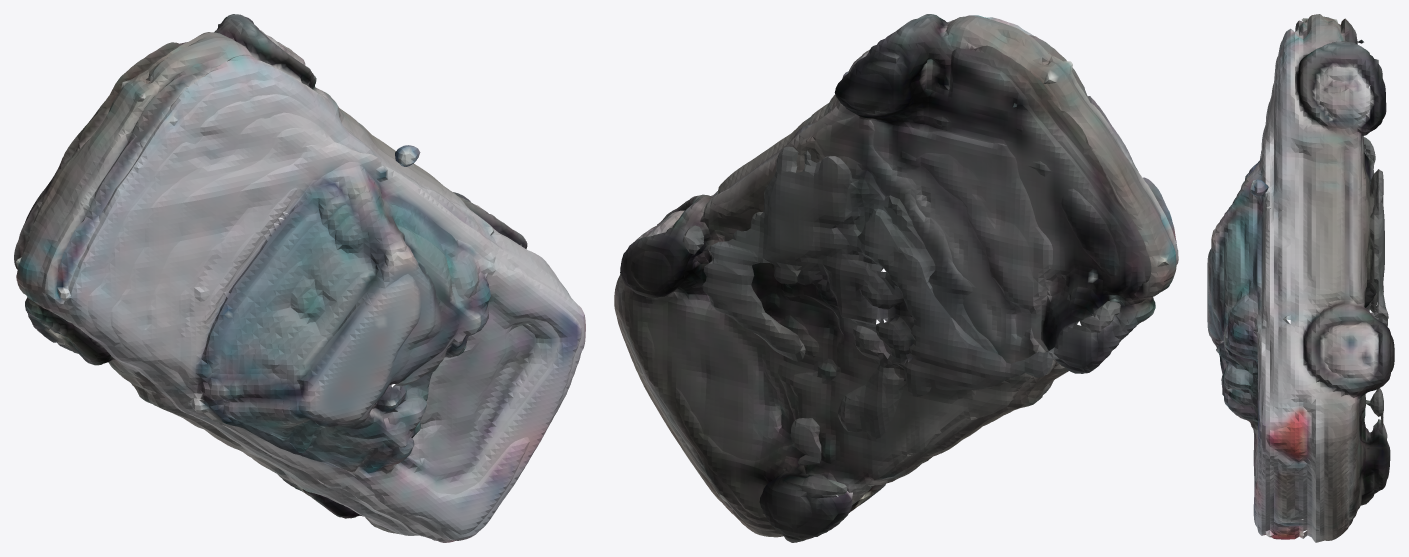
File: 000006_car_mercedes_convertible.glb
3 views of the same model, side by side, from view 1: azimuth 30°, elevation 25°; view 2: azimuth 150°, elevation 25°; view 3: azimuth 270°, elevation 25° (orthographic). The views are drawn at different scales.
Parts seen in each view (by area): view 1: world; view 2: world; view 3: world.
Boxes of the visible parts, x1,y1,x2,y2 form: world: [14, 14, 585, 542]; world: [614, 14, 1178, 542]; world: [1207, 14, 1394, 542].
Bounding box in the file's own units: 0.8115 × 0.7864 × 0.3061.
